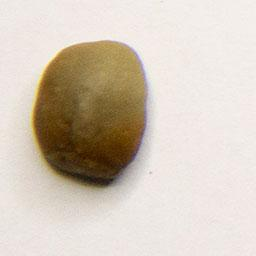defect: (30, 36, 152, 186)
